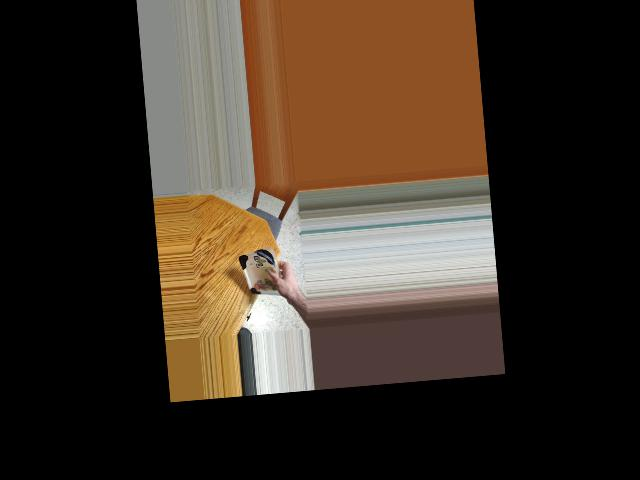cheese: (241, 244, 281, 304)
